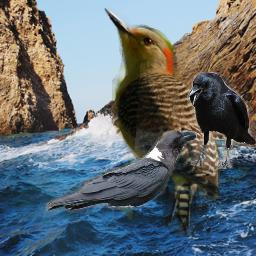Crow: (45, 130, 197, 213), (187, 72, 256, 169)
Woodpecker: (103, 8, 220, 237)
